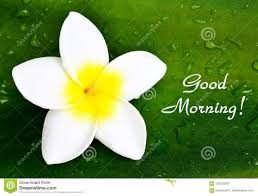frangipani: (12, 11, 167, 164)
